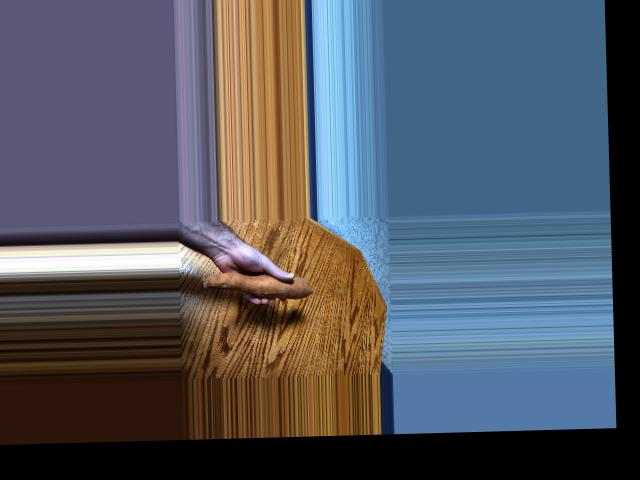sweet_potato: (197, 267, 315, 305)
